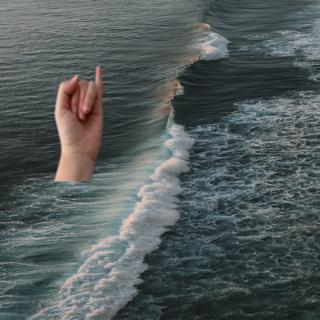Fine: (50, 59, 109, 178)
